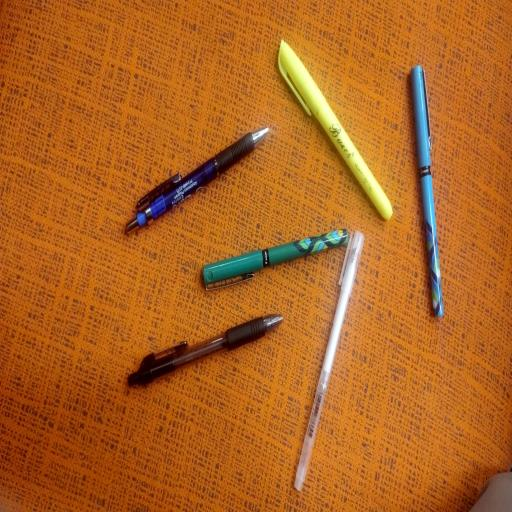pen: (279, 41, 392, 219), (295, 232, 364, 491), (127, 128, 268, 232), (128, 315, 282, 385), (203, 230, 347, 289), (411, 66, 443, 316)
